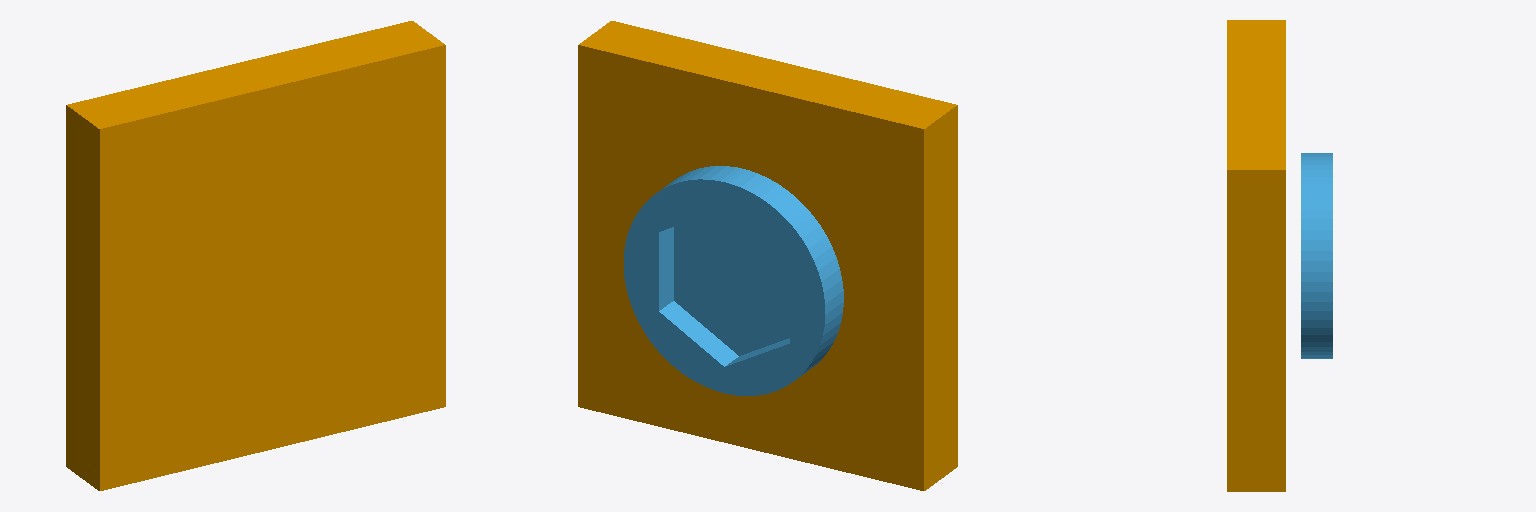
URDF robot description (hex_screw_base):
<?xml version="1.0"?>
<robot name="hex_screw_base">

  <link name="base">
    <visual>
      <origin xyz="0 0.01 0" rpy="0 0 0"/>
      <geometry>
        <box size="0.12 0.02 0.12"/>
      </geometry>
    </visual>	
    <collision>
      <origin xyz="0 0.01 0" rpy="0 0 0"/>
      <geometry>
        <box size="0.12 0.02 0.12"/>
      </geometry>
    </collision>
  </link>

  <link name="screw">
    <visual>
      <origin xyz="0 0 0" rpy="0 0 0"/>
      <geometry>
        <mesh filename="hex_screw/screw_head.obj" scale="0.001750 0.001750 0.001750"/>
      </geometry>
    </visual>	
    <collision>
      <origin xyz="0 0 0" rpy="0 0 0"/>
      <geometry>
        <mesh filename="hex_screw/screw_head.obj" scale="0.001750 0.001750 0.001750"/>
      </geometry>
    </collision>
  </link>

  <joint name="screw_to_base" type="revolute">
    <parent link="base"/>
    <child link="screw"/>
    <origin xyz="0 0.025 0"/>
    <axis xyz="0 1 0"/>
    <limit lower="-3.14" upper="3.14" effort="100" velocity="3"/>
  </joint>

</robot>

--- Render facts (derived) ---
The picture shows the robot from 3 angles, left to right: view 1: azimuth 30°, elevation 25°; view 2: azimuth 150°, elevation 25°; view 3: azimuth 270°, elevation 25°; orthographic projection.
Robot: hex_screw_base — 2 links, 1 joints (1 revolute); root link base; default pose: all joints at 0.
Visible links, largest first — view 1: base; view 2: base, screw; view 3: base, screw.
Boxes of the visible links, box(x1,y1,x2,y2) form: base: box(66, 21, 445, 490); base: box(578, 21, 957, 490); screw: box(624, 166, 843, 395); base: box(1227, 20, 1285, 491); screw: box(1301, 153, 1332, 358).
Bounding box of the posed robot: 0.12 × 0.0361 × 0.12 m (x, y, z).
1 mesh visuals loaded from 1 distinct referenced files (1 OBJ).